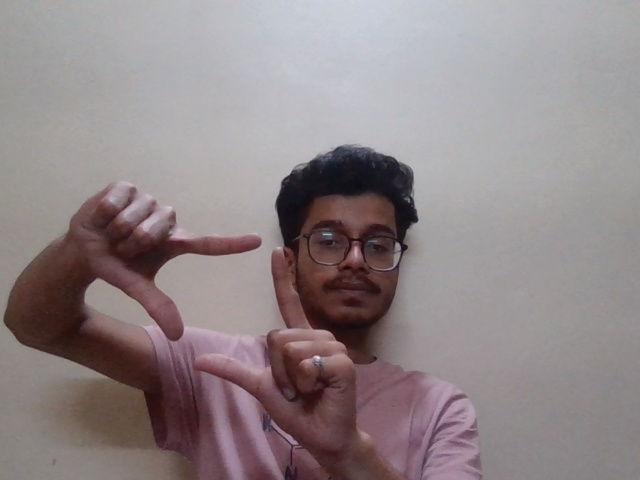video: (62, 183, 364, 432)
